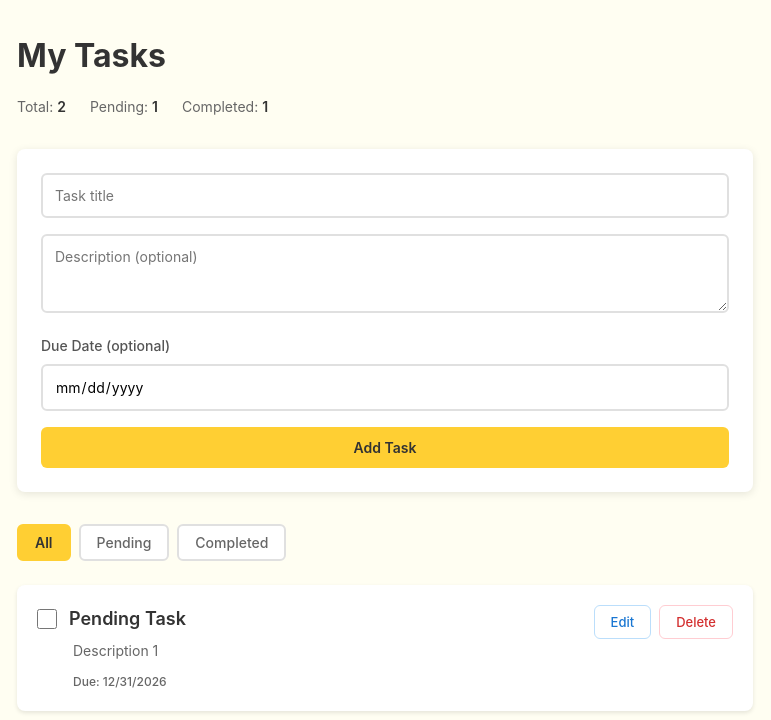
Test: TaskBoard › should filter tasks by status
Expected: the element with test id "task-1" is shown, [17,585,753,711]
# Filter by Pending - only task 1 should be visible
Click the button "Pending".
click(124, 542)  # box [78,524,169,561]
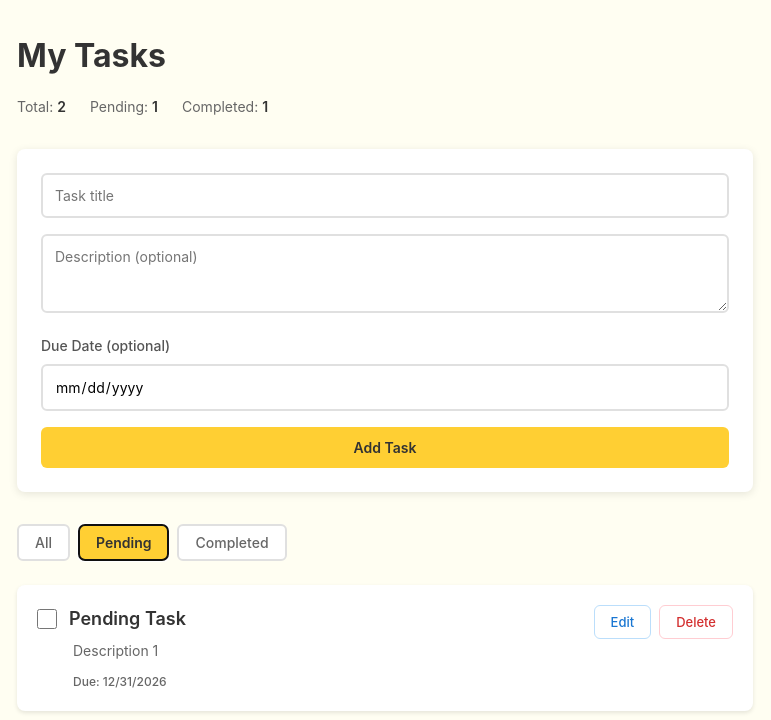
Expected: the element with test id "task-1" is shown, [17,585,753,711]
# Filter by Completed - only task 2 should be visible
Click the button "Completed".
click(232, 542)  # box [178,524,287,561]
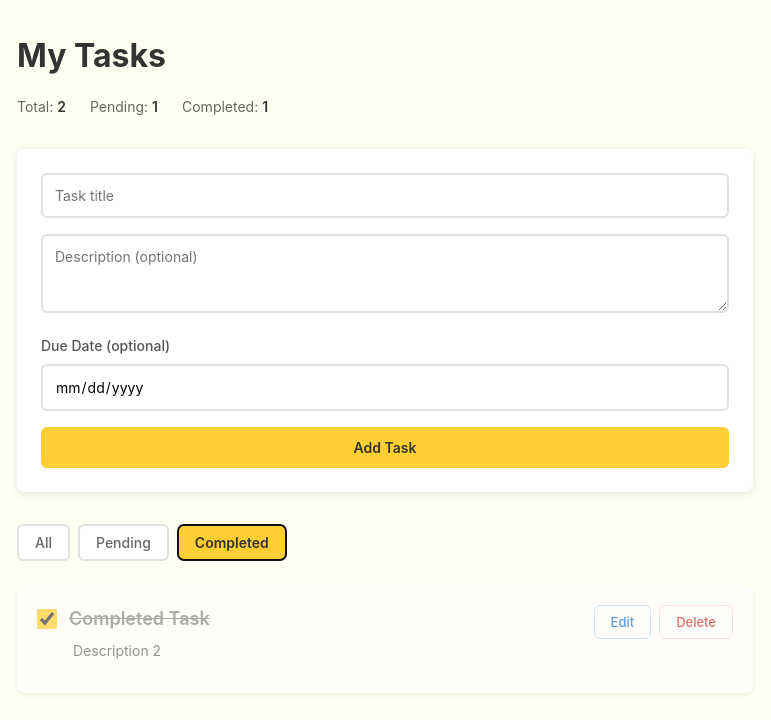
Result: the element with test id "task-1" is gone
Result: the element with test id "task-2" is shown at [17,585,753,693]
# Filter by All - both tasks should be visible
Click the button "All".
click(44, 542)  # box [17,524,70,561]
(page scrolled)
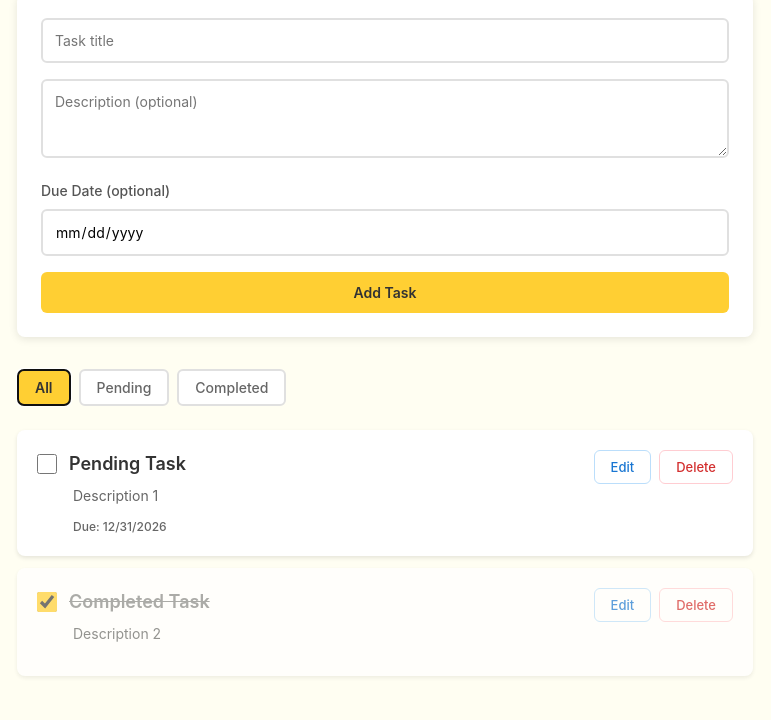
Result: the element with test id "task-2" is shown at [17,568,753,676]
Result: the element with test id "task-1" is shown at [17,430,753,556]
